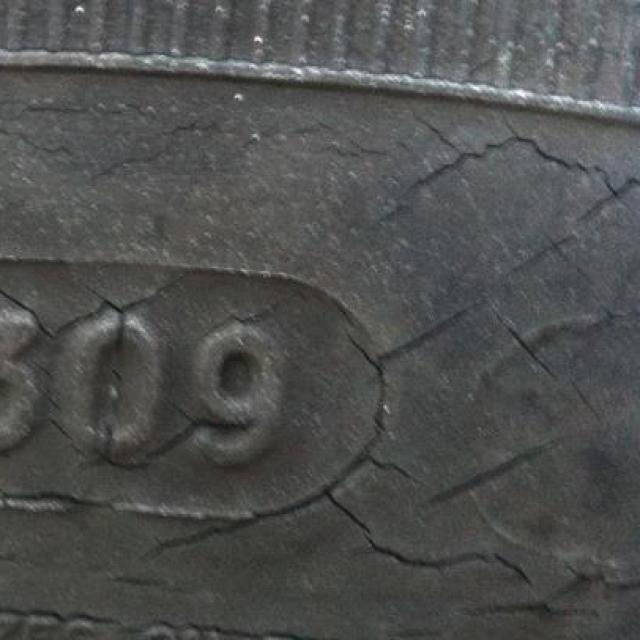Cracks: (0, 62, 640, 640)
